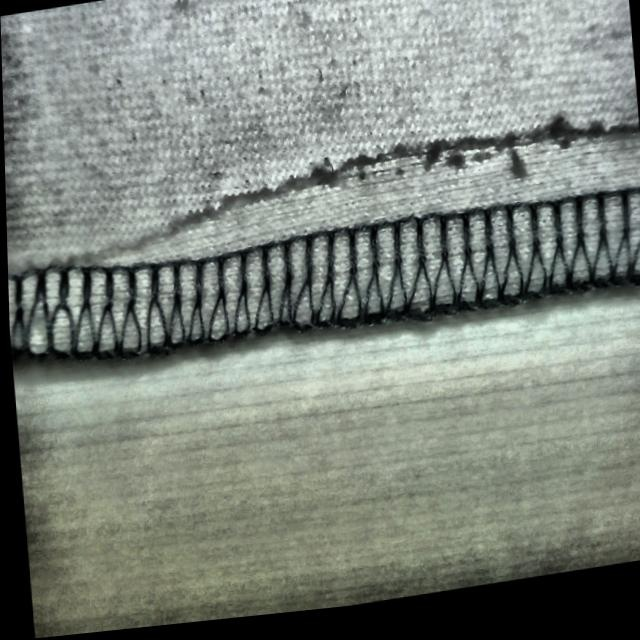seam: (58, 70, 639, 379)
